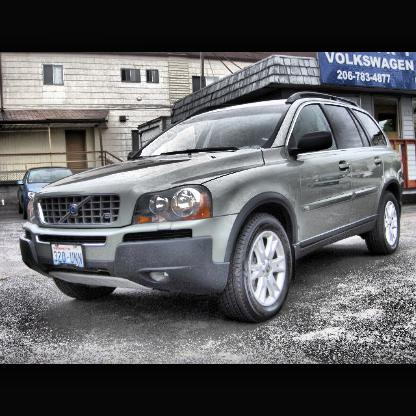Volvo XC90 SUV 2007: (21, 93, 404, 321)
